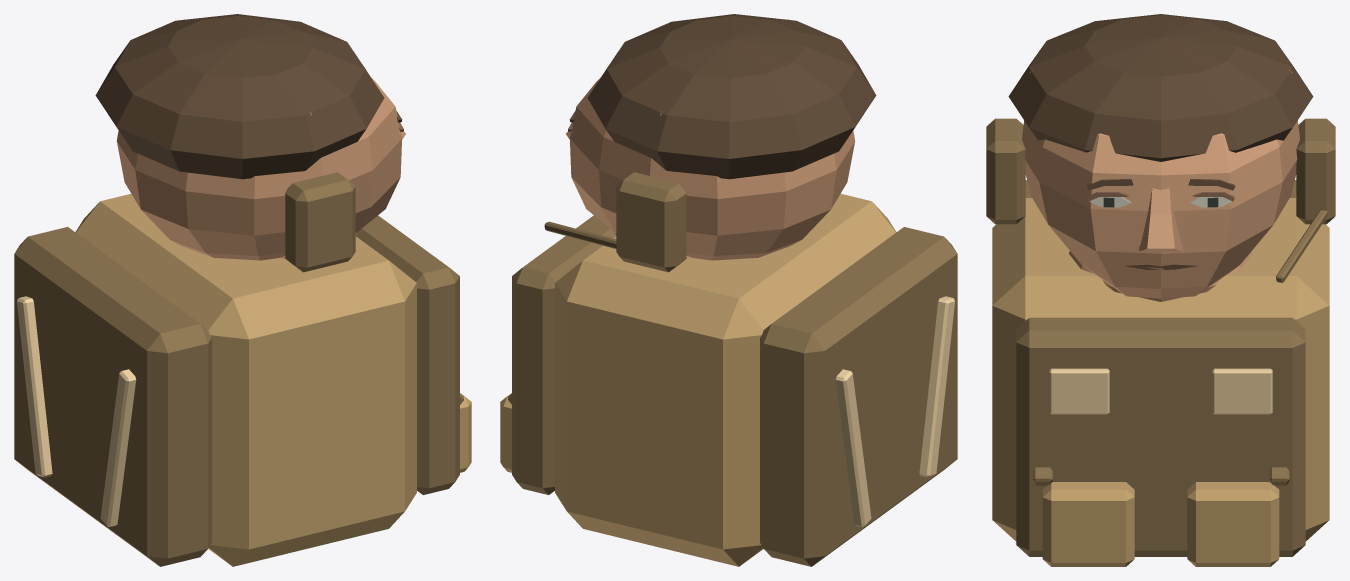
File: desert-runner.helmet-off.glb
The picture shows the model from 3 angles, left to right: view 1: azimuth 30°, elevation 25°; view 2: azimuth 150°, elevation 25°; view 3: azimuth 270°, elevation 25°; orthographic projection. The views are drawn at different scales.
Visible parts, largest first — view 1: desert-runner_helmet-off__main__torso_finish_c5a36d_0.03, desert-runner_helmet-off__main__torso_finish_8c744e_0.03, desert-runner_helmet-off__main__head_finish_5f4a36_0.03, desert-runner_helmet-off__main__head, desert-runner_helmet-off__main__head_finish_8c744e_0.03, desert-runner_helmet-off__main__torso_finish_f0d3a1_0.03; view 2: desert-runner_helmet-off__main__torso_finish_c5a36d_0.03, desert-runner_helmet-off__main__torso_finish_8c744e_0.03, desert-runner_helmet-off__main__head_finish_5f4a36_0.03, desert-runner_helmet-off__main__head, desert-runner_helmet-off__main__head_finish_8c744e_0.03, desert-runner_helmet-off__main__torso_finish_f0d3a1_0.03; view 3: desert-runner_helmet-off__main__torso_finish_8c744e_0.03, desert-runner_helmet-off__main__torso_finish_c5a36d_0.03, desert-runner_helmet-off__main__head_finish_5f4a36_0.03, desert-runner_helmet-off__main__head, desert-runner_helmet-off__main__head_finish_8c744e_0.03, desert-runner_helmet-off__main__torso_finish_f0d3a1_0.03, desert-runner_helmet-off__main__head_finish_d3a079_0.03.
Boxes of the visible parts, x1=… form: desert-runner_helmet-off__main__torso_finish_c5a36d_0.03: x1=75, y1=194, x2=471, y2=566; desert-runner_helmet-off__main__torso_finish_8c744e_0.03: x1=14, y1=215, x2=463, y2=566; desert-runner_helmet-off__main__head_finish_5f4a36_0.03: x1=95, y1=14, x2=384, y2=179; desert-runner_helmet-off__main__head: x1=117, y1=77, x2=405, y2=260; desert-runner_helmet-off__main__head_finish_8c744e_0.03: x1=183, y1=19, x2=355, y2=272; desert-runner_helmet-off__main__torso_finish_f0d3a1_0.03: x1=17, y1=296, x2=136, y2=526; desert-runner_helmet-off__main__torso_finish_c5a36d_0.03: x1=500, y1=194, x2=896, y2=566; desert-runner_helmet-off__main__torso_finish_8c744e_0.03: x1=508, y1=215, x2=957, y2=566; desert-runner_helmet-off__main__head_finish_5f4a36_0.03: x1=587, y1=14, x2=876, y2=179; desert-runner_helmet-off__main__head: x1=566, y1=77, x2=854, y2=260; desert-runner_helmet-off__main__head_finish_8c744e_0.03: x1=544, y1=19, x2=788, y2=272; desert-runner_helmet-off__main__torso_finish_f0d3a1_0.03: x1=835, y1=296, x2=954, y2=526; desert-runner_helmet-off__main__torso_finish_8c744e_0.03: x1=1016, y1=180, x2=1305, y2=556; desert-runner_helmet-off__main__torso_finish_c5a36d_0.03: x1=992, y1=198, x2=1329, y2=566; desert-runner_helmet-off__main__head_finish_5f4a36_0.03: x1=1008, y1=14, x2=1313, y2=161; desert-runner_helmet-off__main__head: x1=1022, y1=120, x2=1299, y2=298; desert-runner_helmet-off__main__head_finish_8c744e_0.03: x1=986, y1=69, x2=1335, y2=282; desert-runner_helmet-off__main__torso_finish_f0d3a1_0.03: x1=1049, y1=368, x2=1272, y2=414; desert-runner_helmet-off__main__head_finish_d3a079_0.03: x1=1069, y1=251, x2=1252, y2=301.
Size of the model in its own units: 31.1 by 39.5 by 26.6.
